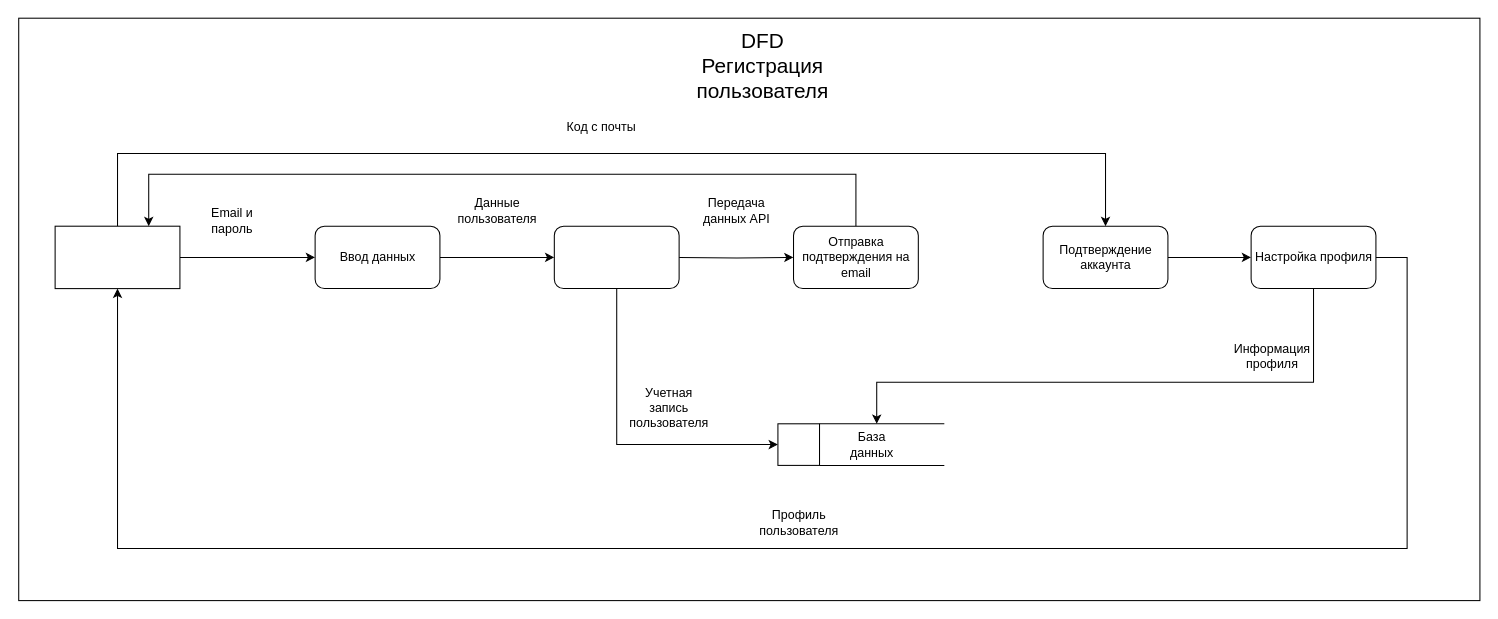
Some shapes in this 1498 by 619 pixel diagram are drawn without their labels. Here are the shapes that lost their labels. From the top down, the centre of each, then its label:
At point (117, 257): "Пользователь".
At point (616, 257): "Валидация данных".
